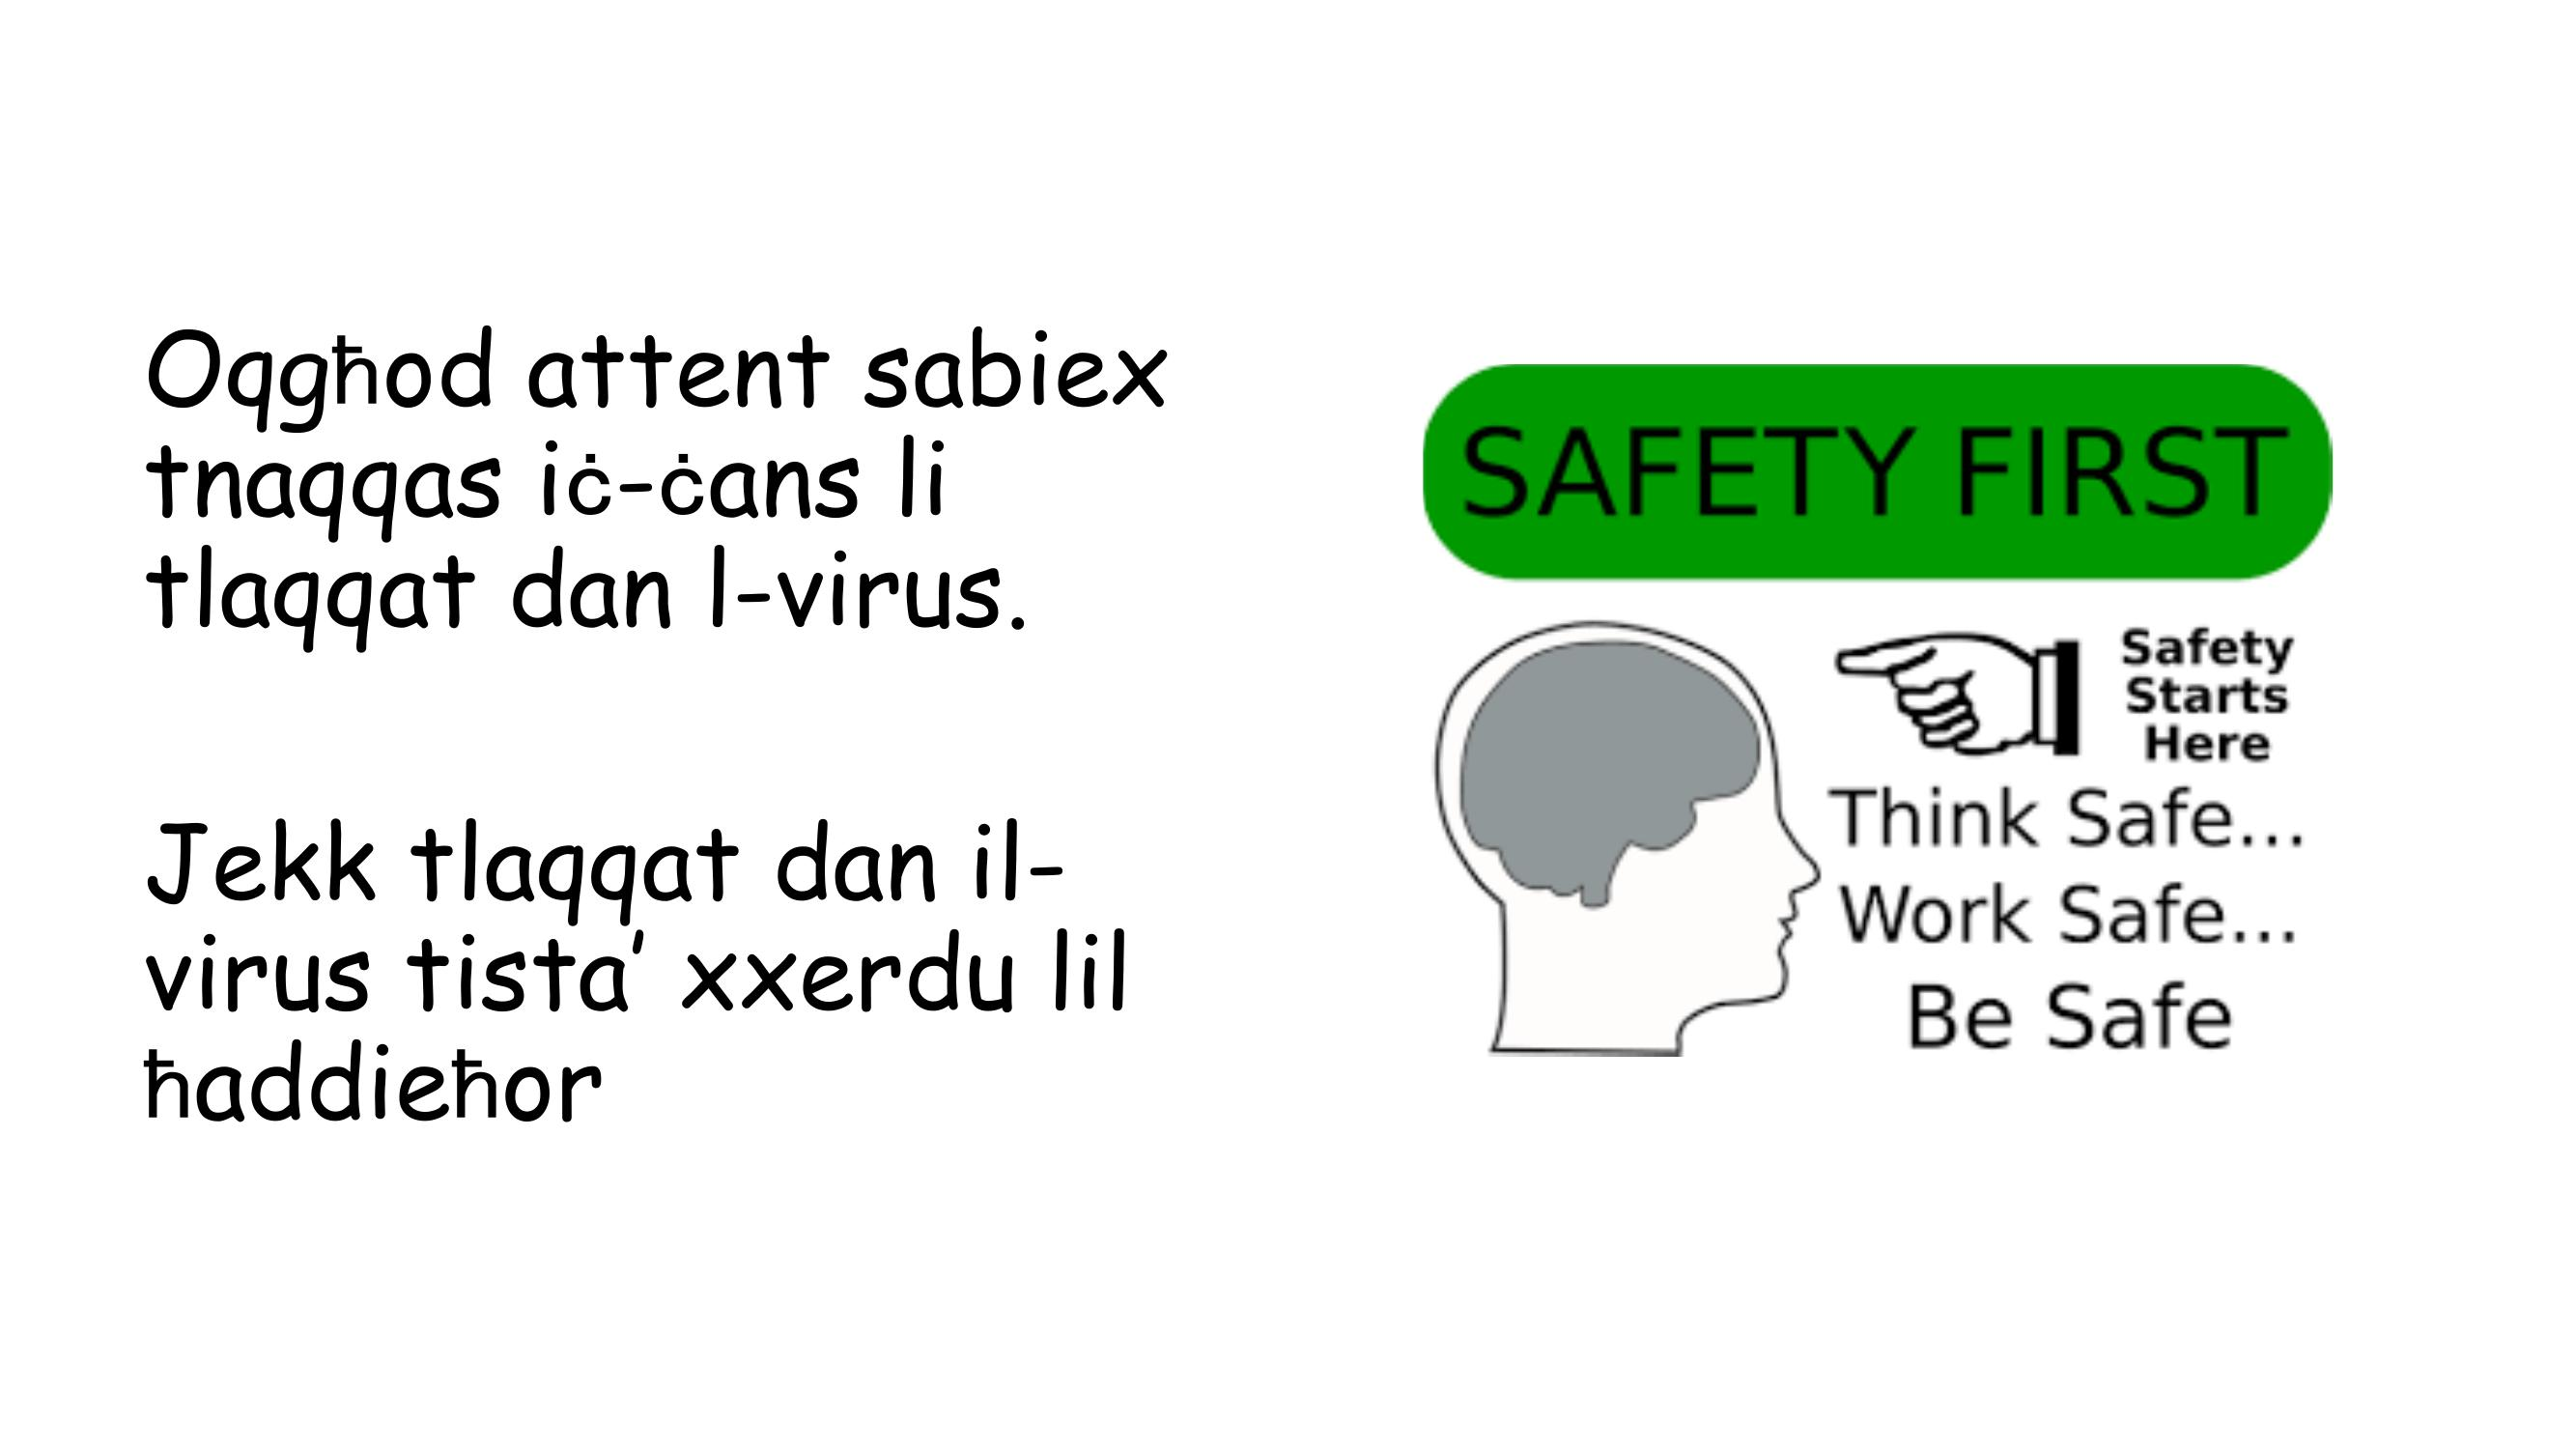text: (120, 299, 1194, 1161)
